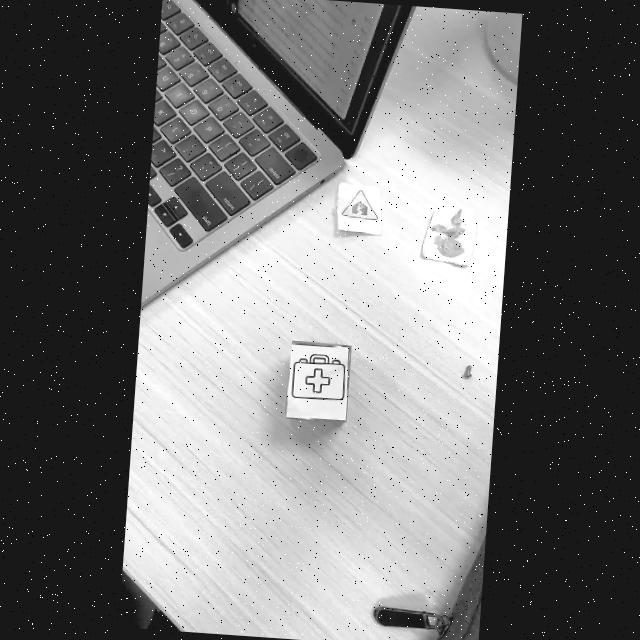Medkit: (290, 354, 345, 400)
